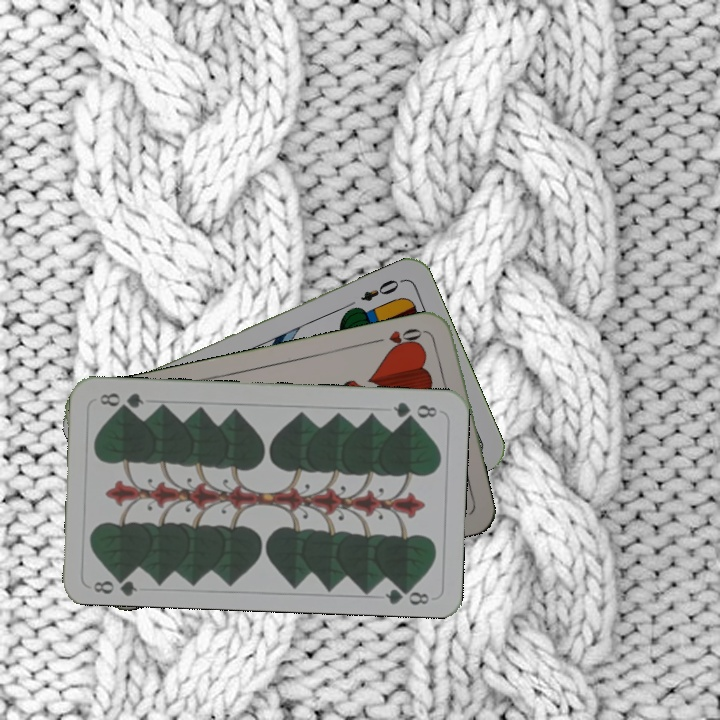EO: (356, 275, 406, 304)
G8: (90, 570, 140, 597), (389, 398, 440, 422)
HO: (370, 324, 429, 354)
